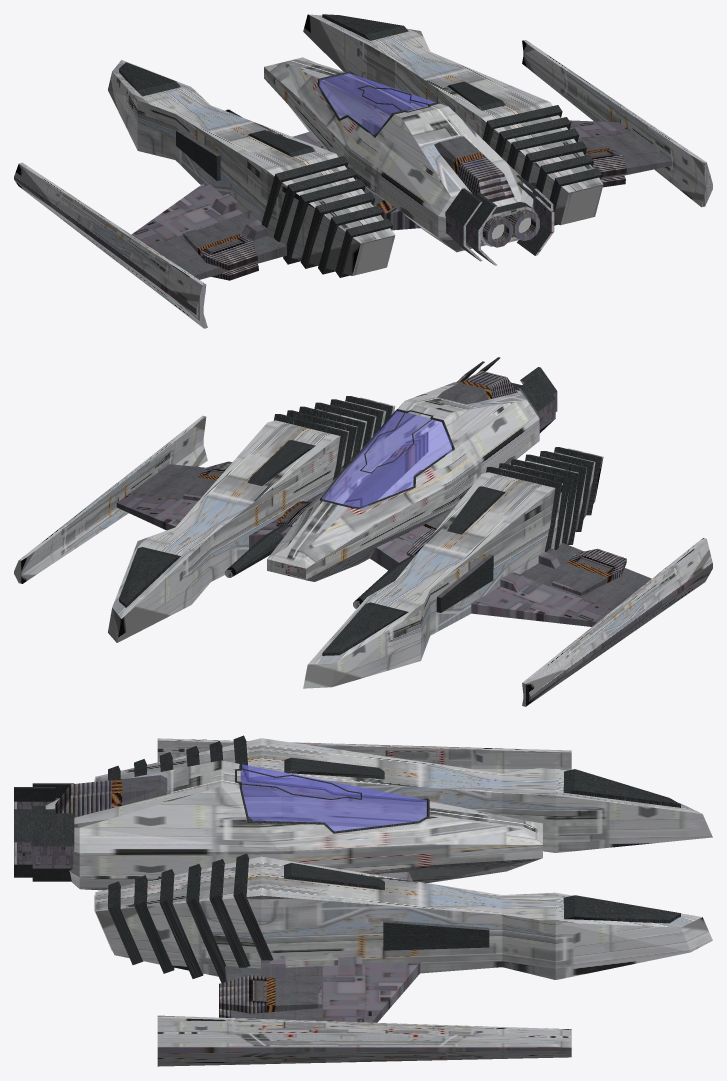
File: sship3.obj
3 views of the same model, one above another, from view 1: azimuth 30°, elevation 25°; view 2: azimuth 150°, elevation 25°; view 3: azimuth 270°, elevation 25° (orthographic). The views are drawn at different scales.
Parts seen in each view (by area): view 1: panels4, glass, glow; view 2: panels4, glass; view 3: panels4, glass.
Part boxes in pixels (x1,y1,x2,y2): panels4: [14, 14, 712, 328]; glass: [318, 73, 435, 135]; glow: [356, 186, 601, 274]; panels4: [14, 357, 712, 706]; glass: [322, 411, 451, 508]; panels4: [14, 735, 712, 1066]; glass: [240, 764, 426, 831].
Bounding box in the file's own units: 38.51 × 9.63 × 39.76.
